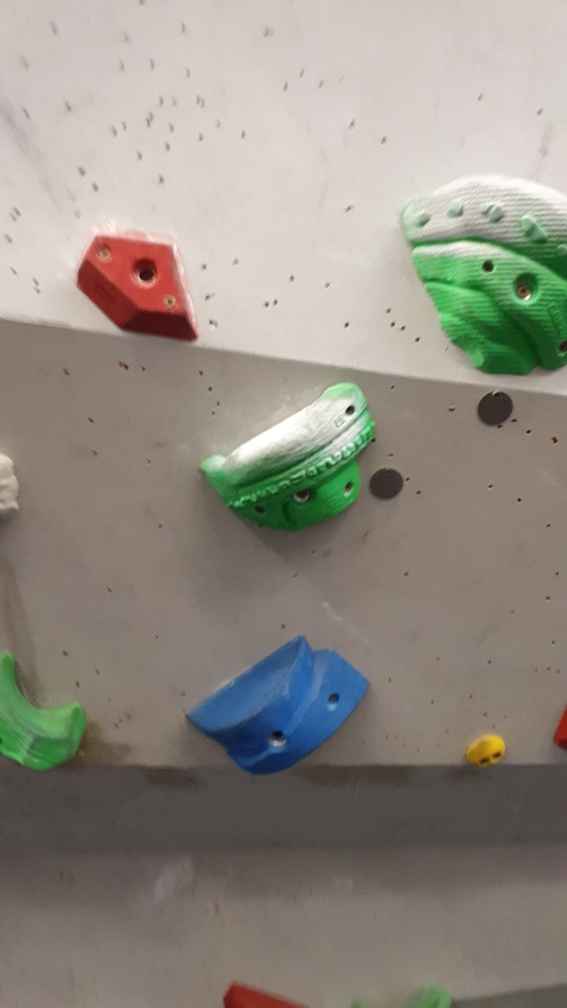Crimp: (72, 222, 208, 350)
Hand Start: (359, 462, 412, 511), (474, 382, 513, 431)
Jug: (398, 168, 567, 382), (194, 374, 380, 538), (1, 657, 95, 780)
Pinch: (179, 634, 370, 785)
